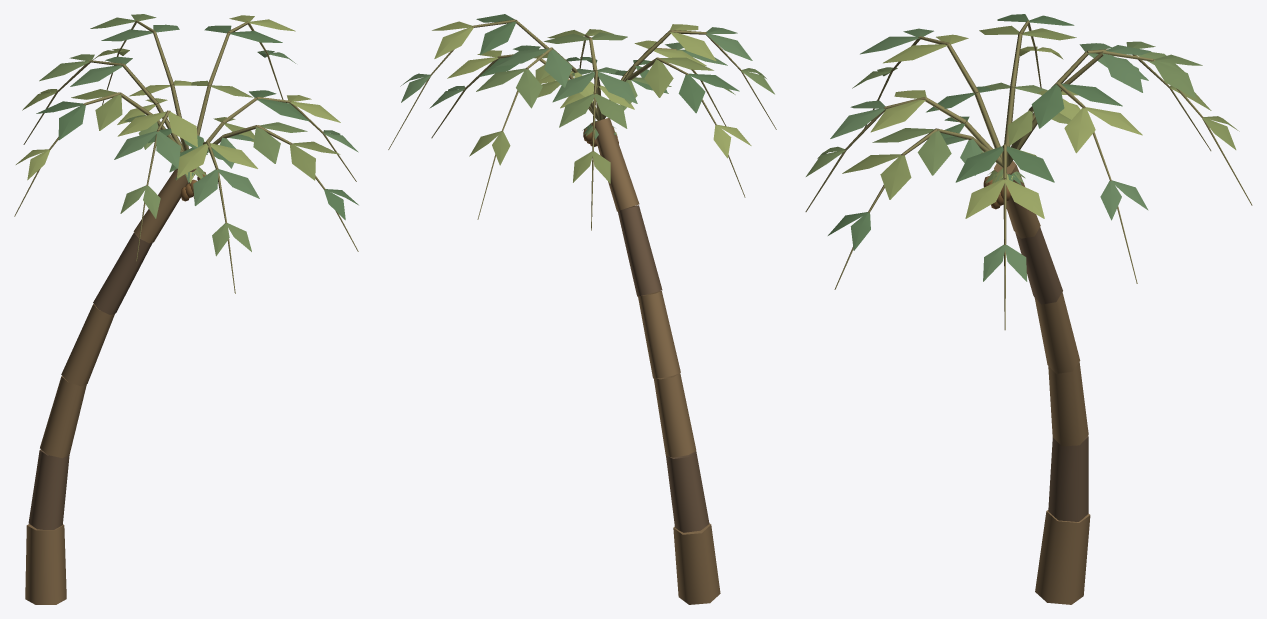
File: wind-palm-far.glb
3 views of the same model, side by side, from view 1: azimuth 30°, elevation 25°; view 2: azimuth 150°, elevation 25°; view 3: azimuth 270°, elevation 25° (orthographic). The views are drawn at different scales.
Visible parts, largest first — view 1: Trunk_Wood, Crown_Foliage; view 2: Trunk_Wood, Crown_Foliage; view 3: Crown_Foliage, Trunk_Wood.
Part boxes in pixels (<box>): Trunk_Wood: <box>14,20,358,604</box>; Crown_Foliage: <box>16,14,358,256</box>; Trunk_Wood: <box>388,19,776,604</box>; Crown_Foliage: <box>400,14,774,183</box>; Crown_Foliage: <box>806,14,1239,281</box>; Trunk_Wood: <box>805,20,1252,604</box>.
Size of the model in its own units: 6.47 by 9.96 by 6.52.
